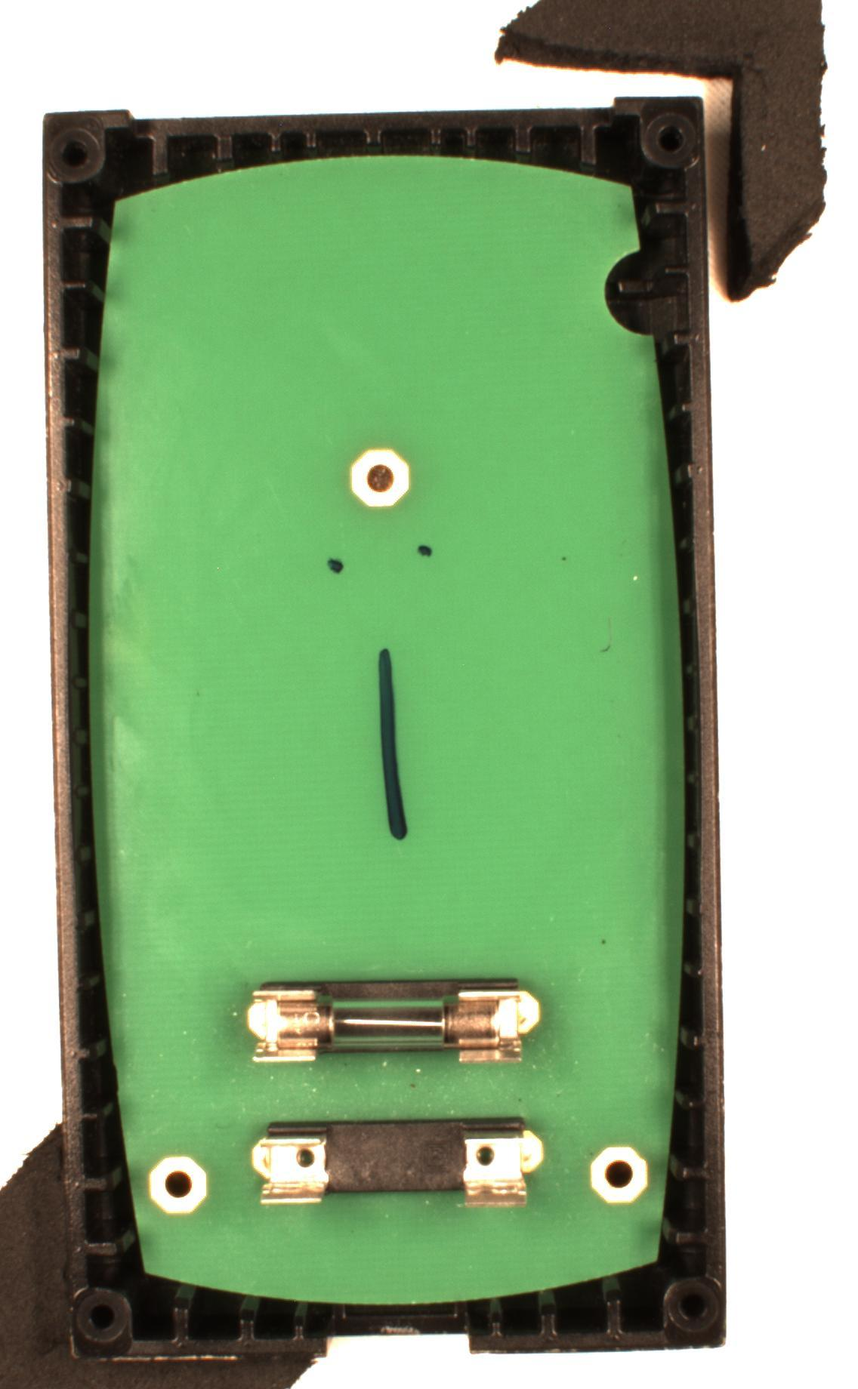Linijsko Ostecene: (374, 647, 412, 845)
Nepostojanje osiguraca: (249, 1113, 547, 1211)
Tockasto Ostecenje: (323, 554, 345, 577), (415, 540, 433, 559)
